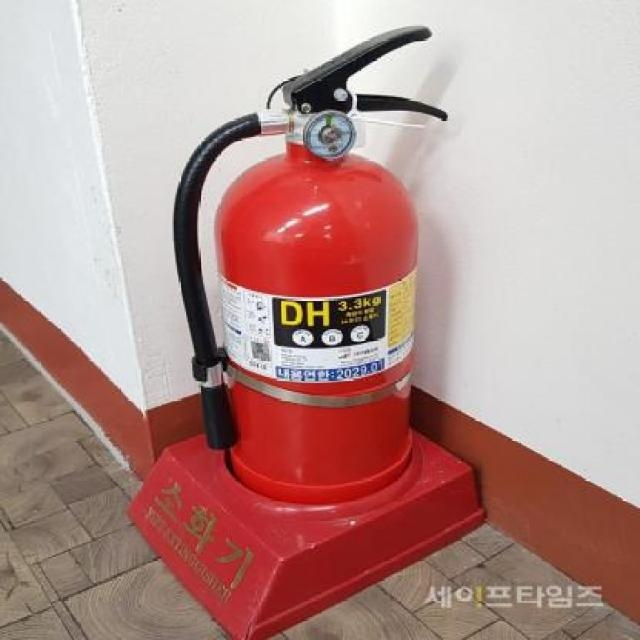fire extinguisher: (172, 25, 448, 504)
